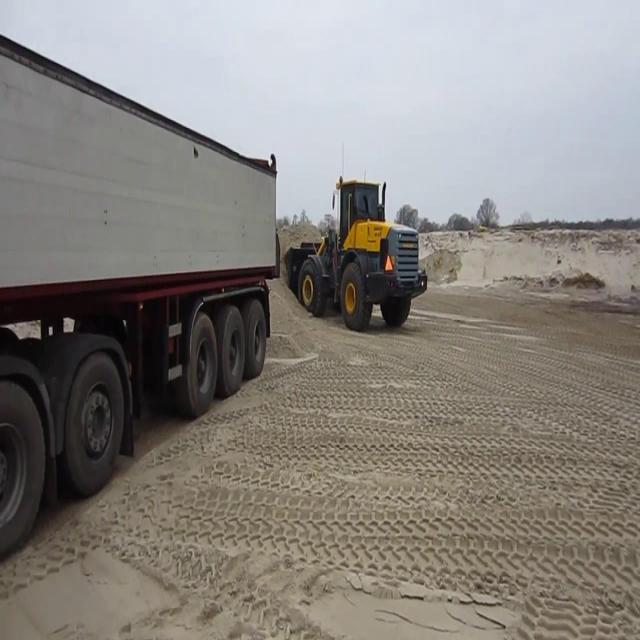buldozerpayloadergrader: (283, 159, 427, 332)
dump_truck: (0, 30, 280, 564)
